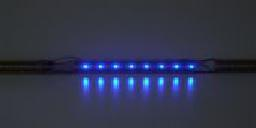LED: (79, 55, 201, 77)
